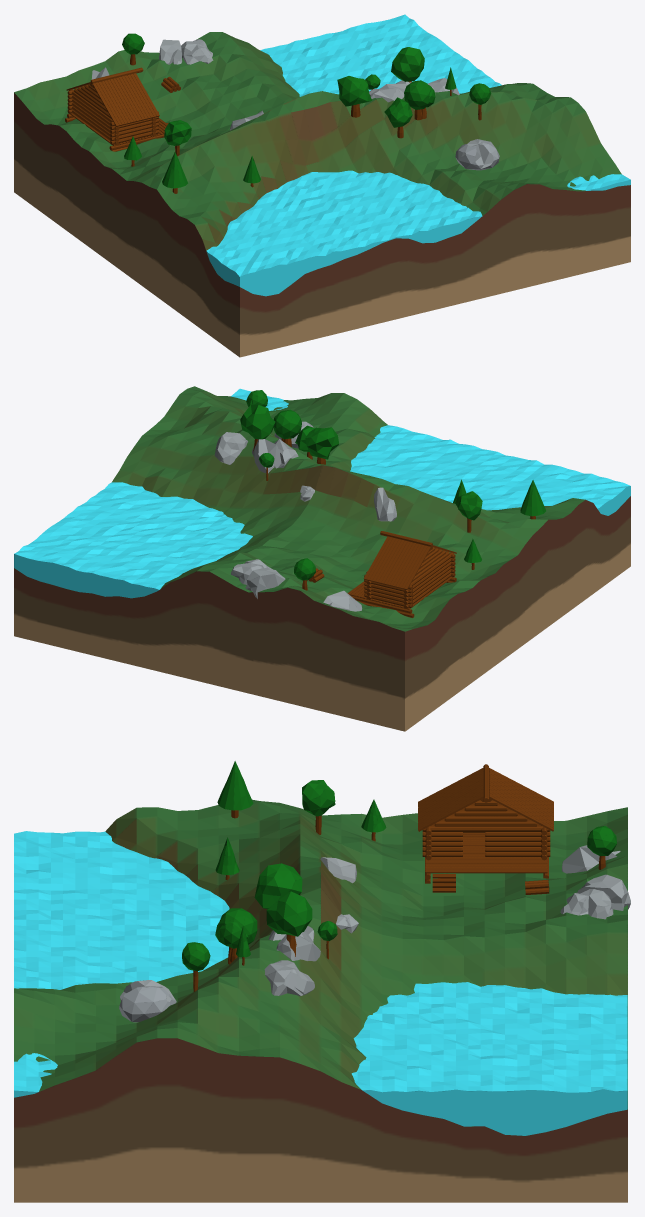
File: terrain.fbx
3 renders of one model, top to bottom at view 1: azimuth 30°, elevation 25°; view 2: azimuth 150°, elevation 25°; view 3: azimuth 270°, elevation 25°, orthographic. The views are drawn at different scales.
Parts seen in each view (by area): view 1: Landscape, Blockhouse; view 2: Landscape, Blockhouse; view 3: Landscape, Blockhouse.
Boxes of the visible parts, x1,y1,x2,y2 form: Landscape: [14, 14, 630, 357]; Blockhouse: [65, 67, 180, 151]; Landscape: [14, 386, 630, 731]; Blockhouse: [307, 531, 456, 617]; Landscape: [14, 761, 630, 1202]; Blockhouse: [418, 764, 553, 894].
Size of the model in its own units: 5000 by 2078 by 5026.
2 materials, 2 textured.
